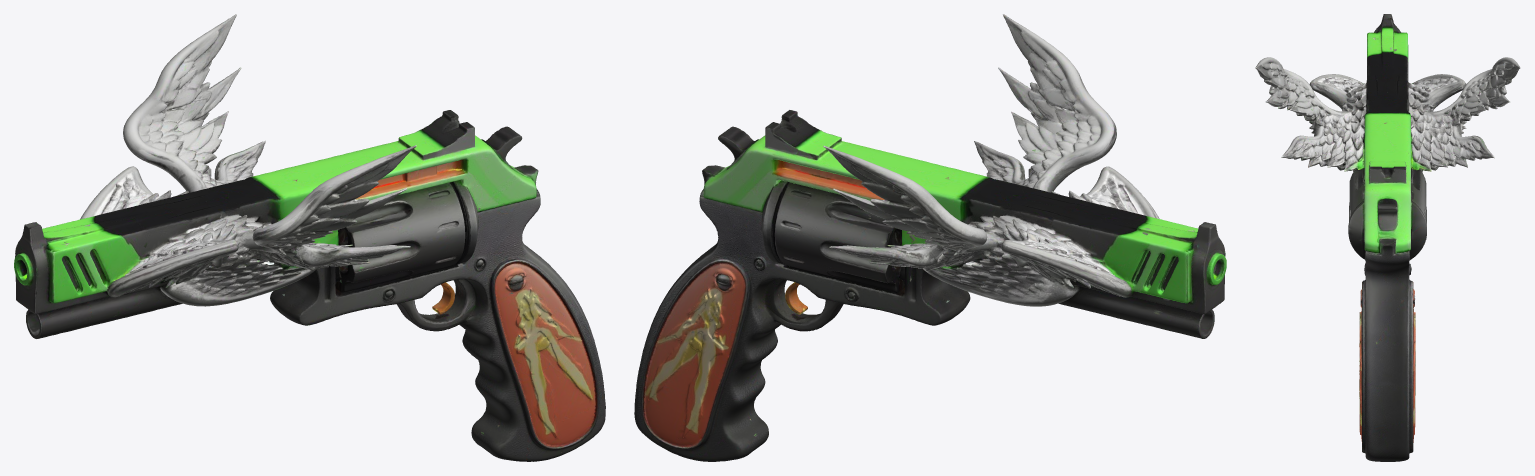
Rendered from revolver.glb.
3 renders of one model, left to right at view 1: azimuth 30°, elevation 25°; view 2: azimuth 150°, elevation 25°; view 3: azimuth 270°, elevation 25°, orthographic. The views are drawn at different scales.
Visible parts, largest first — view 1: Meshy_AI_Winged_Revolver_0303131833_texture; view 2: Meshy_AI_Winged_Revolver_0303131833_texture; view 3: Meshy_AI_Winged_Revolver_0303131833_texture.
Boxes of the visible parts, x1,y1,x2,y2 form: Meshy_AI_Winged_Revolver_0303131833_texture: [14, 14, 605, 461]; Meshy_AI_Winged_Revolver_0303131833_texture: [634, 14, 1226, 461]; Meshy_AI_Winged_Revolver_0303131833_texture: [1255, 14, 1520, 461].
Bounding box in the file's own units: 1.9 × 1.34 × 1.03.
Materials: 1 (1 with a texture image).
